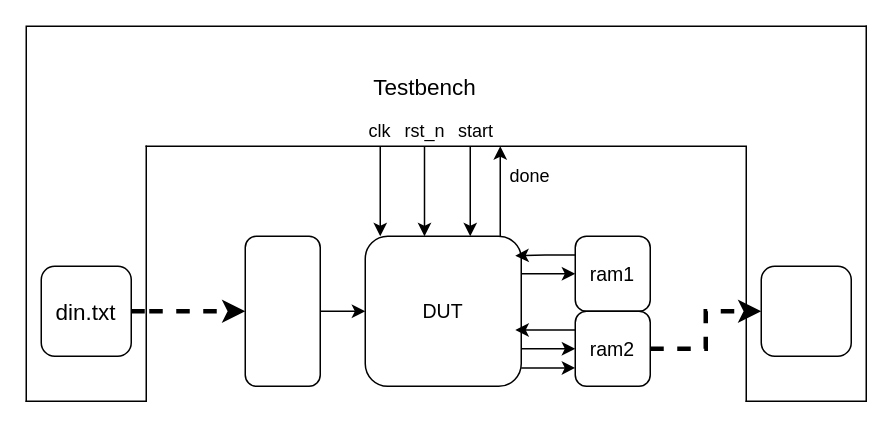
The diagram is 893 pixels wide and 428 high, and some of its shapes have lost their labels. Here are the shapes that lost their labels. From the top down, the centre of each, then its label:
At (282,310): "ram0".
At (805,310): "dout.txt".
